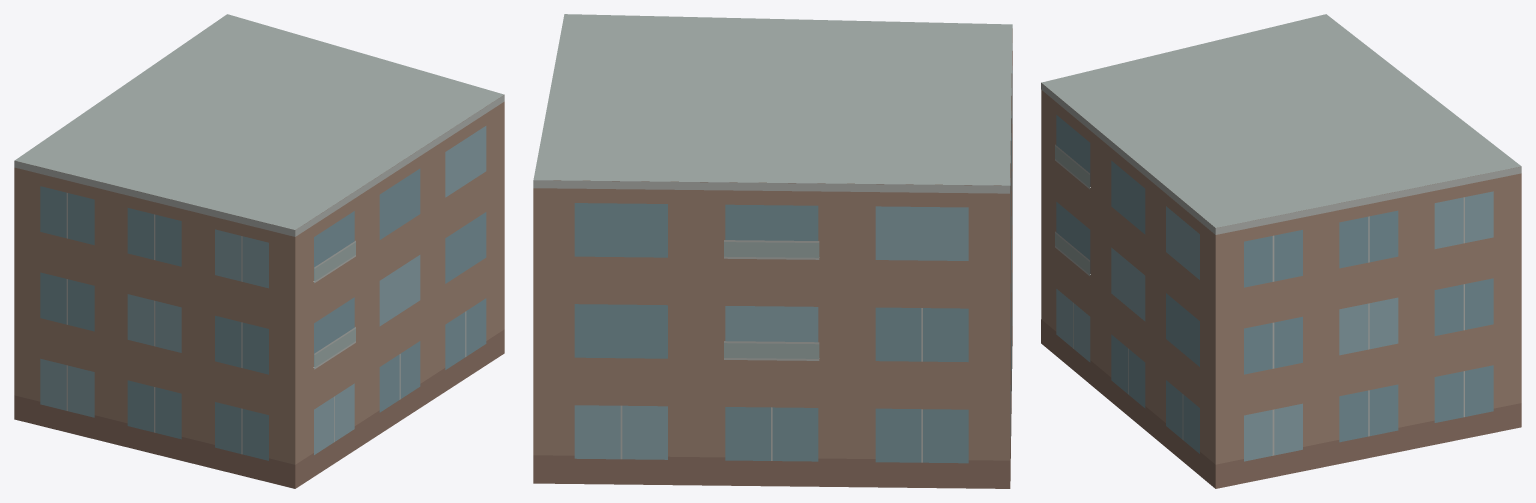
The model's file is survey-upis-32893144.glb.
The picture shows the model from 3 angles, left to right: view 1: azimuth 30°, elevation 25°; view 2: azimuth 150°, elevation 25°; view 3: azimuth 270°, elevation 25°; orthographic projection. The views are drawn at different scales.
Visible parts, largest first — view 1: survey-upis-32893144.tmp; view 2: survey-upis-32893144.tmp; view 3: survey-upis-32893144.tmp.
Part boxes in pixels (bbox=[...]): survey-upis-32893144.tmp: bbox=[14, 14, 504, 488]; survey-upis-32893144.tmp: bbox=[533, 14, 1012, 488]; survey-upis-32893144.tmp: bbox=[1041, 14, 1521, 488].
Bounding box in the file's own units: 16.11 × 9.15 × 15.29.
